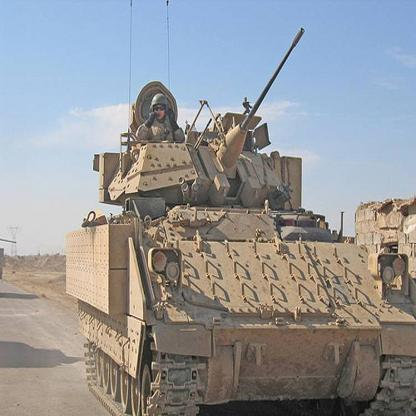Tank: (63, 77, 414, 416)
